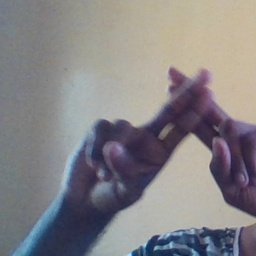F: (114, 55, 256, 171)
